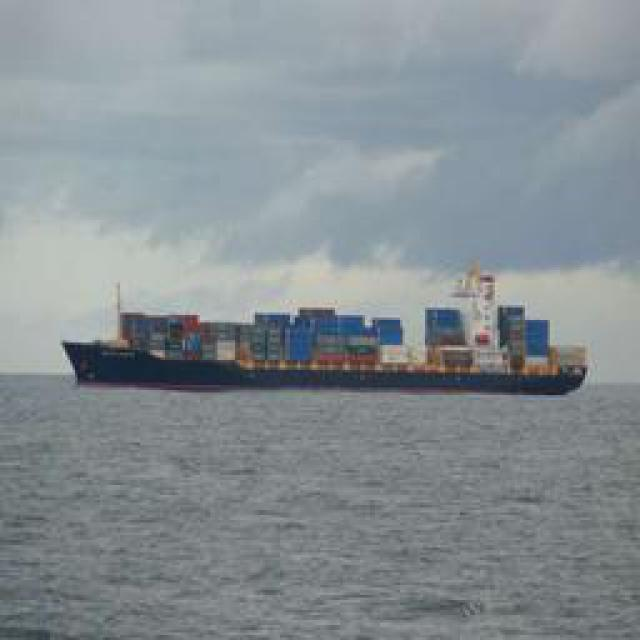Ship: (73, 269, 591, 402)
